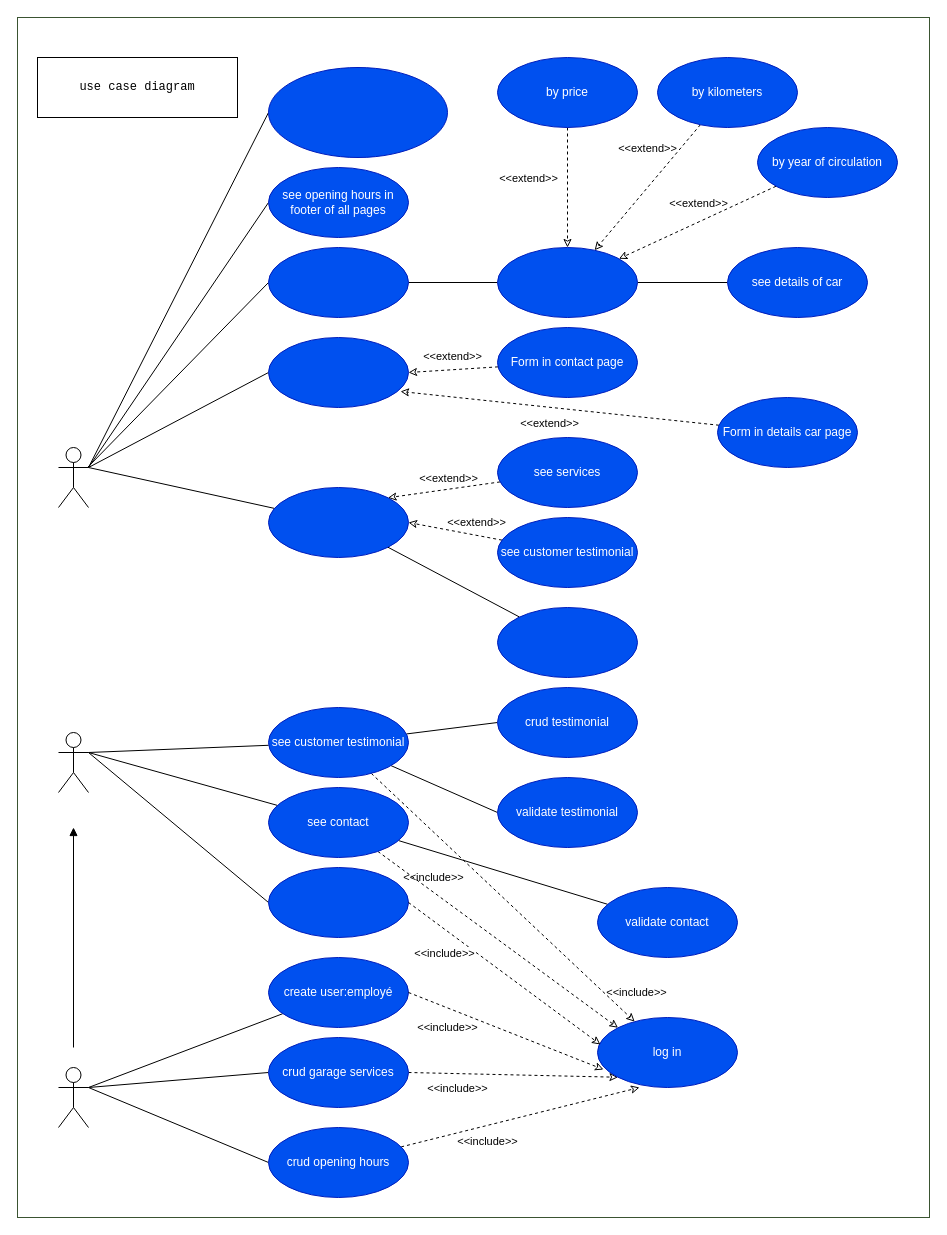
Image size: 947x1235. Some labels were removed from this diagram. The box of each missing label's shape, as (x1, y1, x2, y2) in pixels:
Contact: (268, 336, 408, 408)
Employee : User: (58, 732, 88, 792)
expose car: (268, 866, 408, 938)
filter the list of used car: (496, 246, 638, 318)
make customer testimonial: (496, 606, 638, 678)
see Home page: (268, 486, 408, 558)
see legal notices and privacy policy: (268, 66, 448, 158)
see list of car: (268, 246, 408, 318)
V.parrot : Admin: (58, 1066, 88, 1128)
Visitor: (58, 446, 88, 508)
